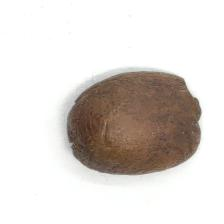NG: (178, 76, 203, 141)
